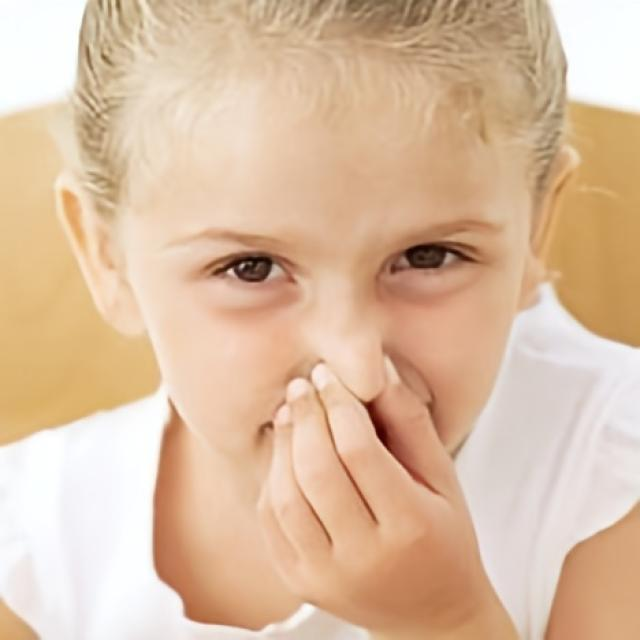disgust: (123, 16, 531, 514)
